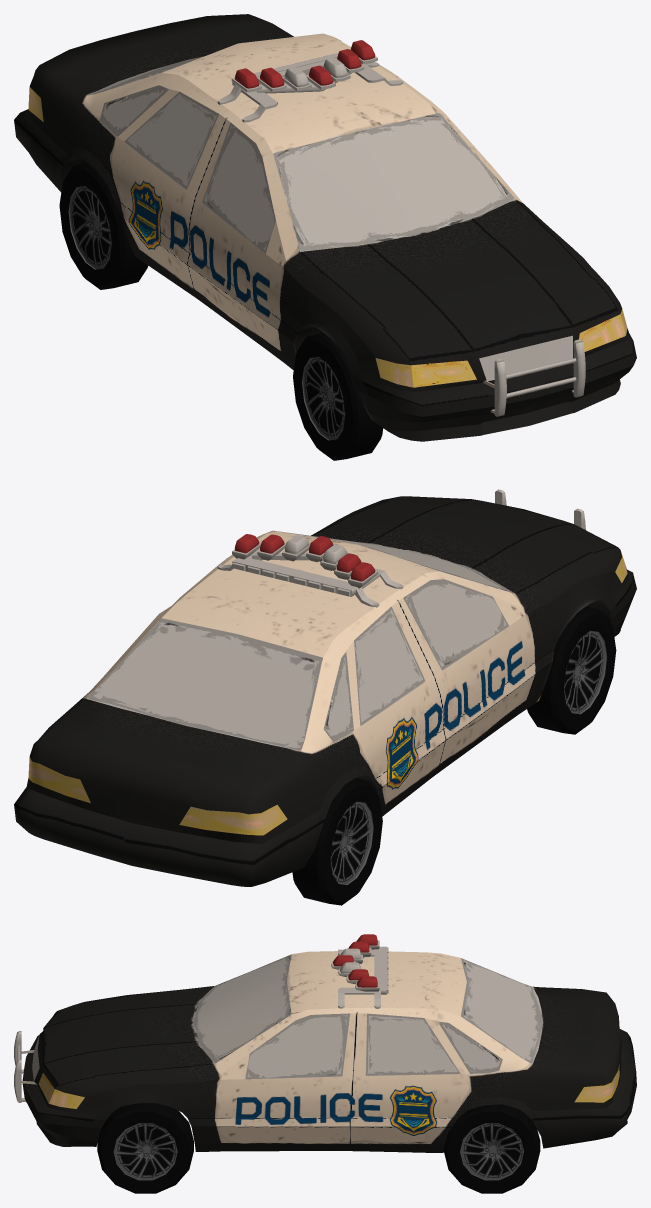
Rendered from SM_Polis.fbx.
The picture shows the model from 3 angles, top to bottom: view 1: azimuth 30°, elevation 25°; view 2: azimuth 150°, elevation 25°; view 3: azimuth 270°, elevation 25°; orthographic projection. The views are drawn at different scales.
Visible parts, largest first — view 1: SM_Polis, SM_PolisTeker; view 2: SM_Polis, SM_PolisTeker; view 3: SM_Polis, SM_PolisTeker.
Part boxes in pixels (<box>): SM_Polis: <box>14,14,636,441</box>; SM_PolisTeker: <box>59,162,383,460</box>; SM_Polis: <box>14,489,636,886</box>; SM_PolisTeker: <box>292,606,616,905</box>; SM_Polis: <box>14,934,636,1152</box>; SM_PolisTeker: <box>97,1103,540,1193</box>.
Size of the model in its own units: 160 by 149 by 440.
2 materials, 2 textured.
